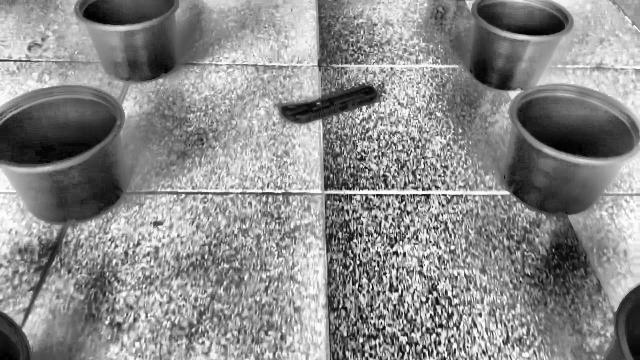pot: (468, 0, 640, 216), (0, 86, 128, 224), (73, 0, 180, 84)
